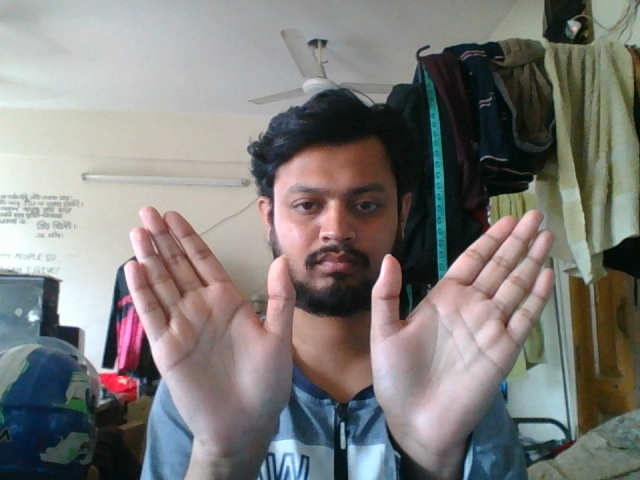naa: (119, 200, 561, 480)
